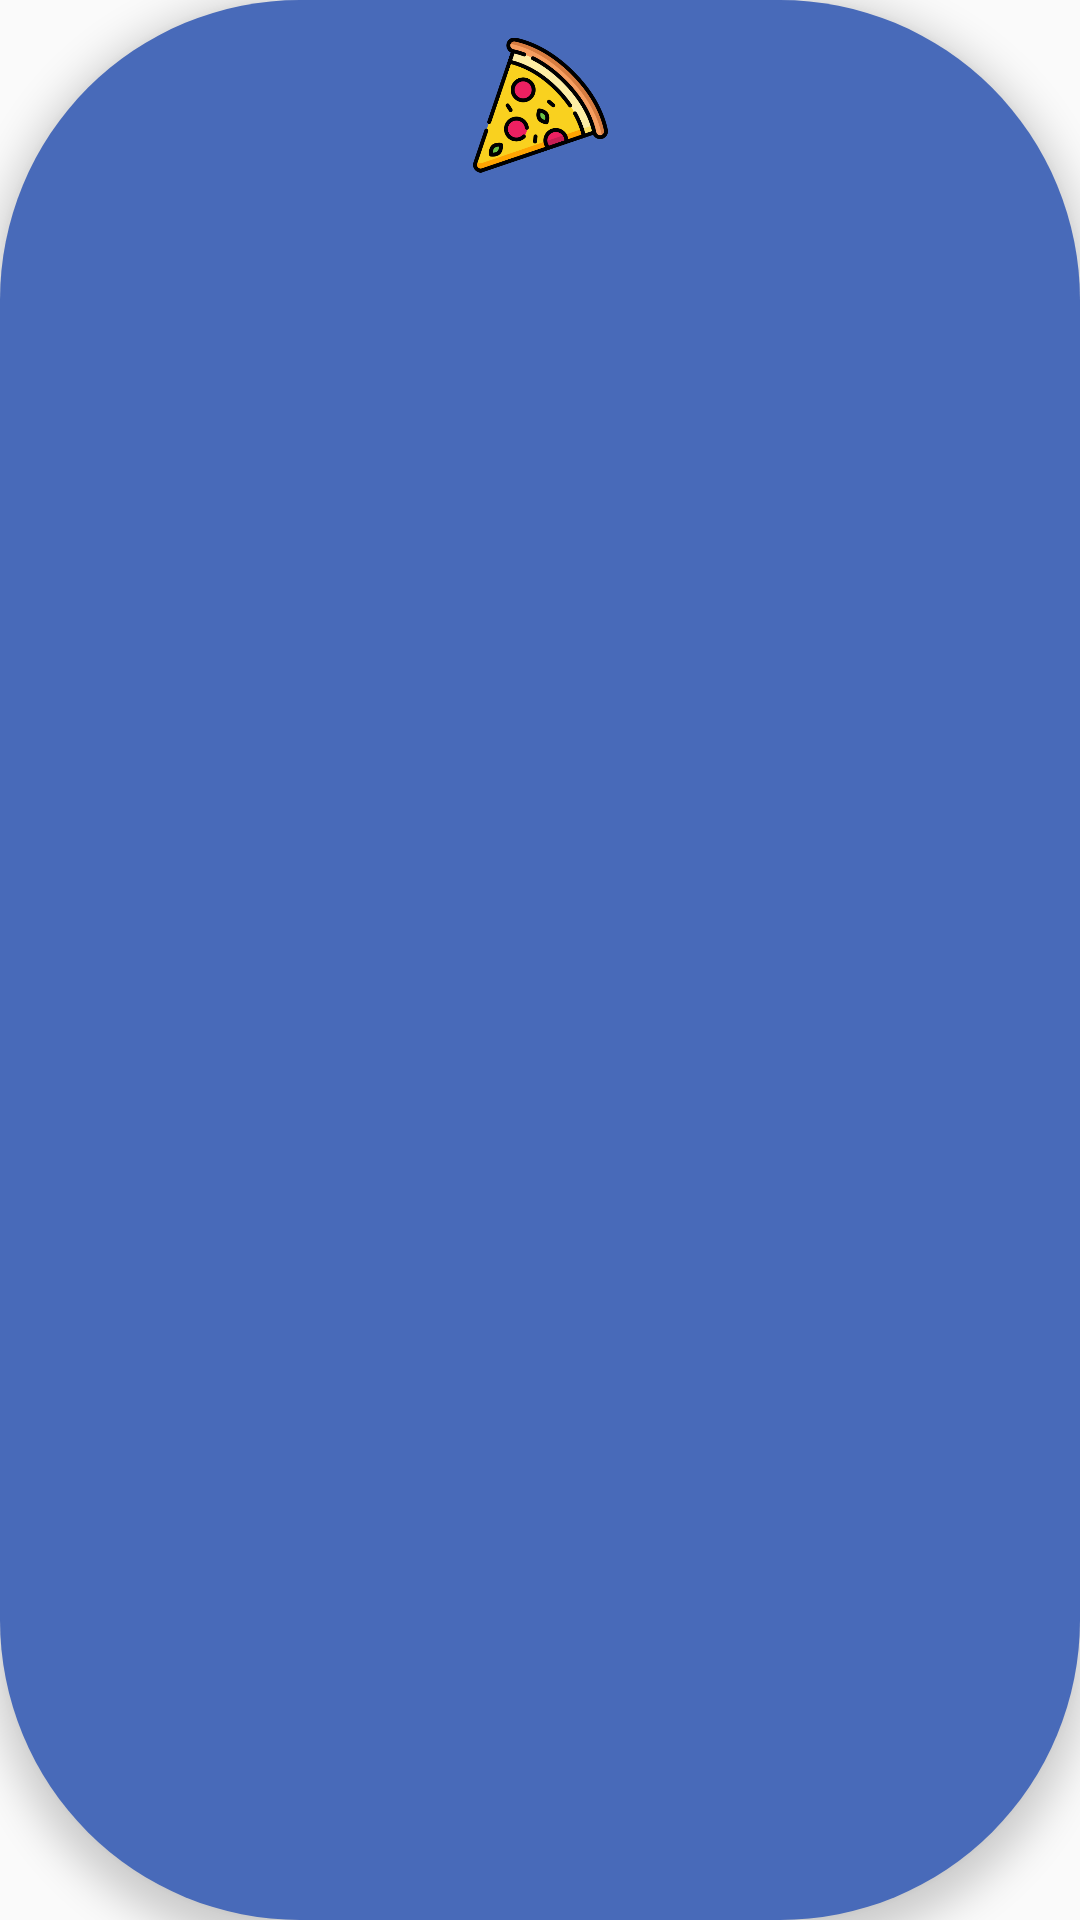

Icon click points for this 1080px×1920px phone screenshot, format (x,y):
pizza: (540,105)
